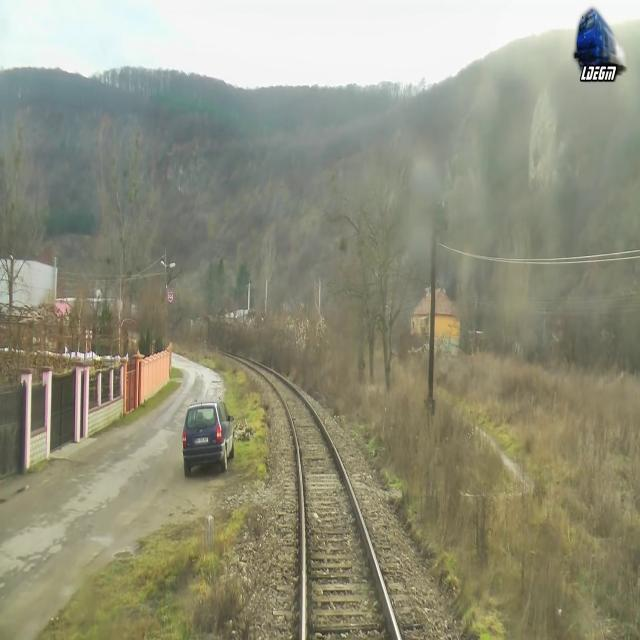rail-track: (261, 368, 396, 639)
